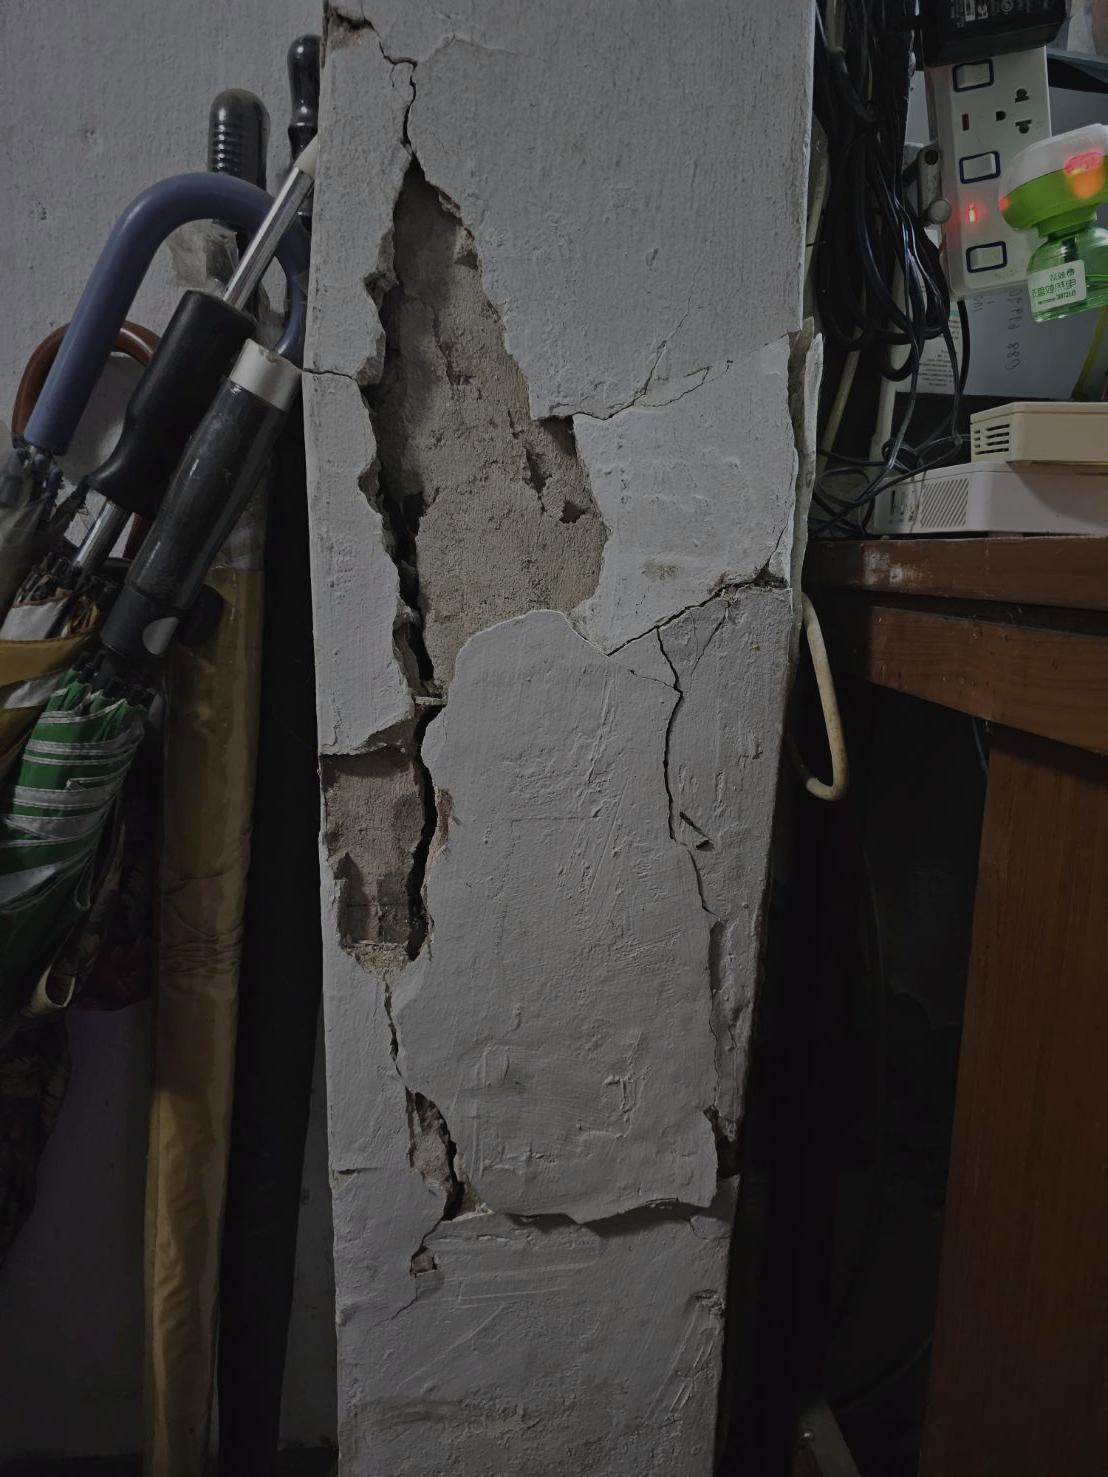High: (311, 6, 763, 1334)
